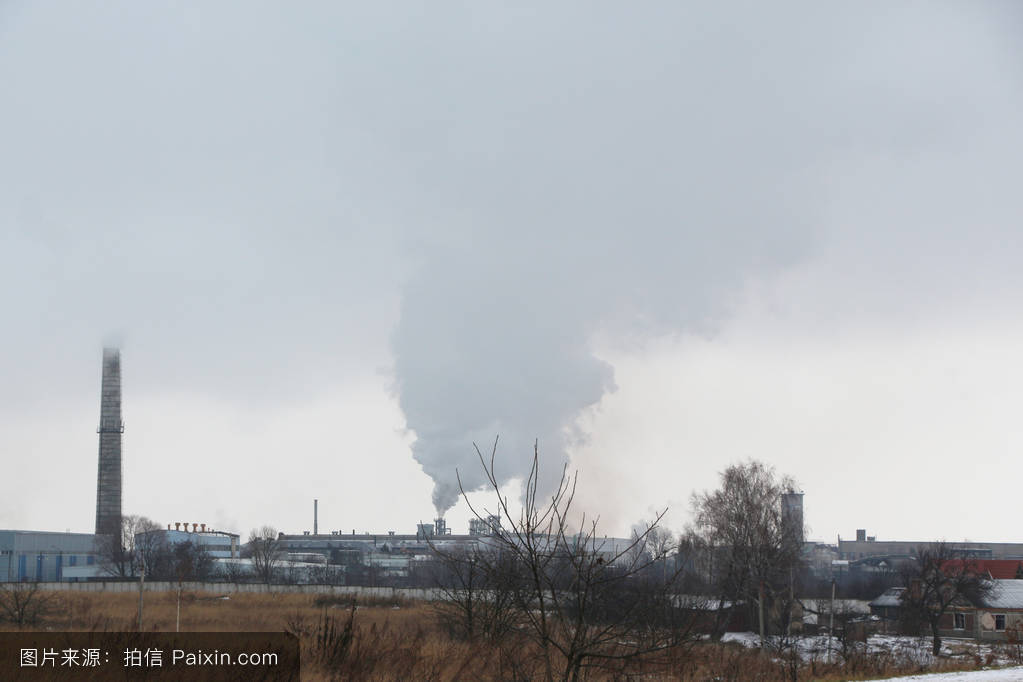dust: (389, 328, 603, 531)
